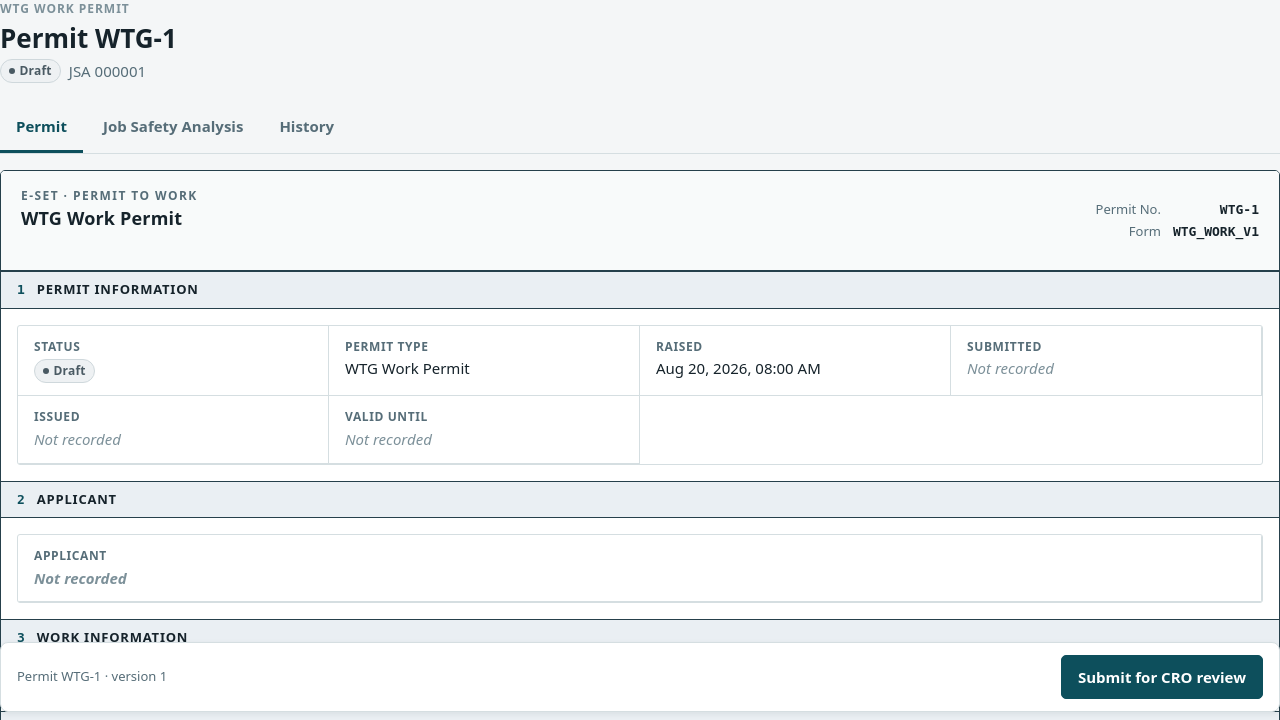
Scenario: performing an action › surfaces a version conflict in plain language and re-reads the record
Click the button "Submit for CRO review": (1162, 677) x1=1061 y1=655 x2=1263 y2=699
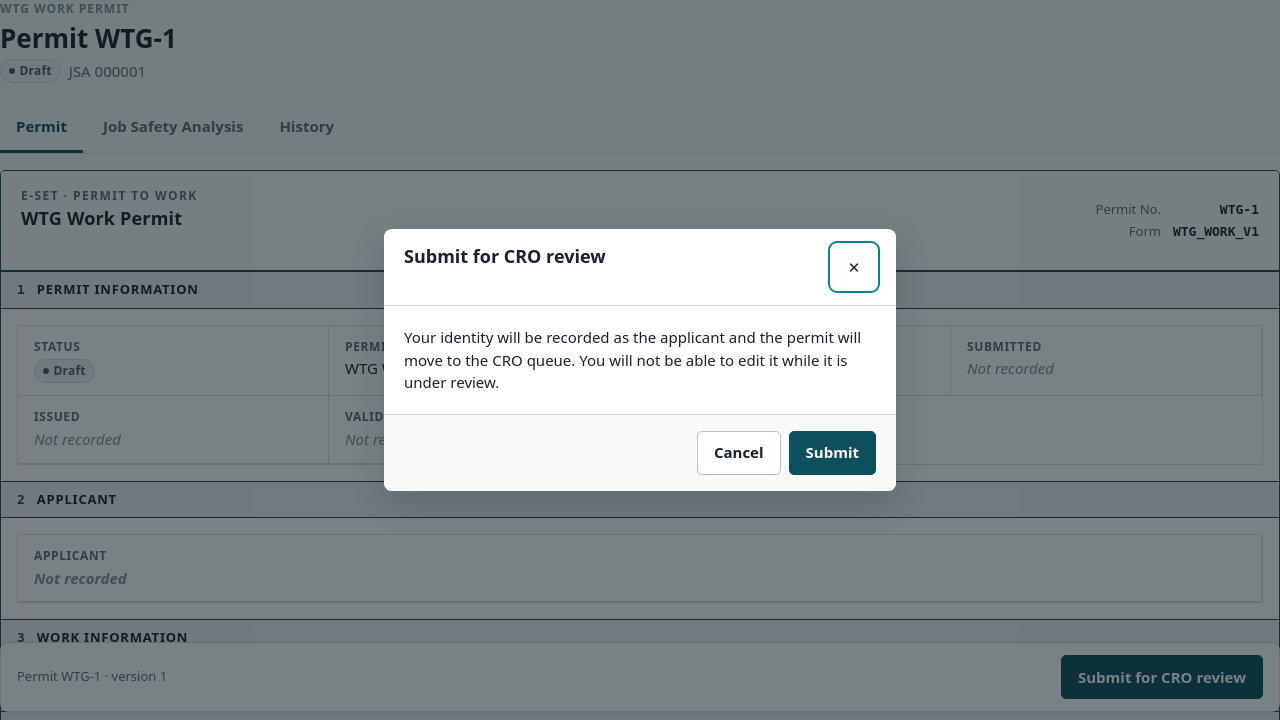
Click the button "Submit": (832, 453) x1=789 y1=431 x2=876 y2=475
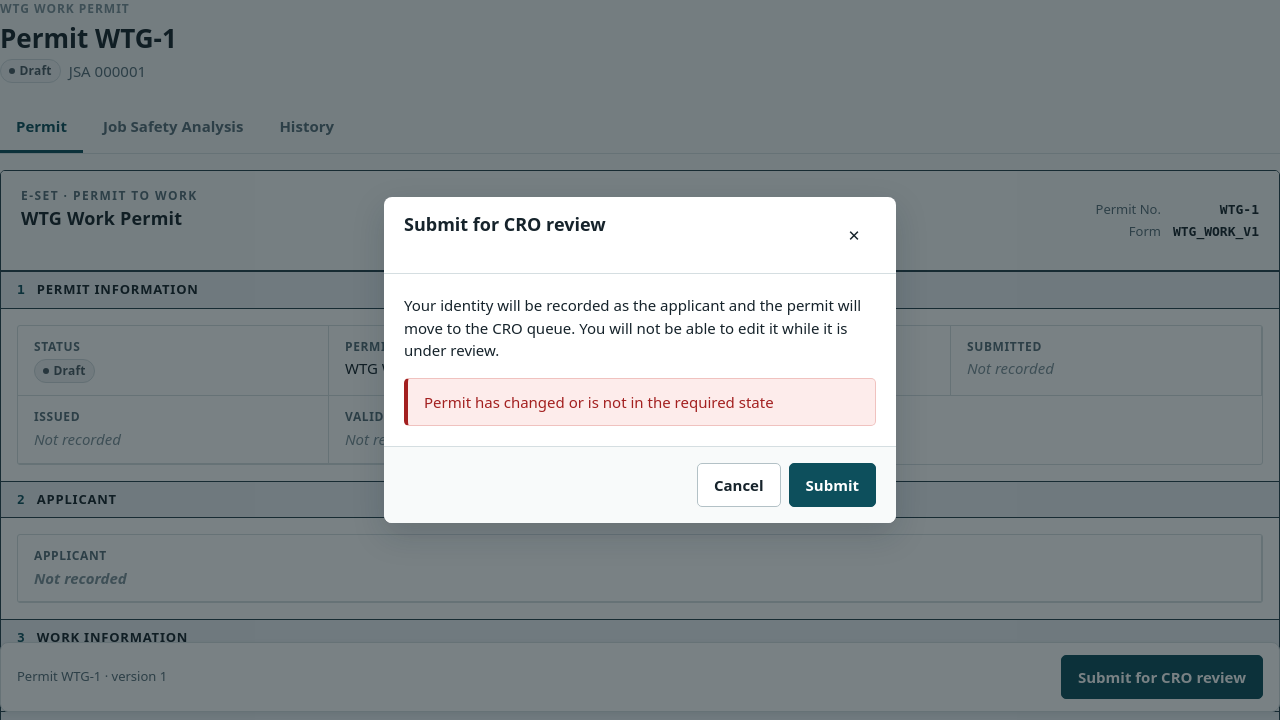
Check: the text "Permit has changed or is not in the required state" is shown, box x1=424 y1=392 x2=774 y2=412
